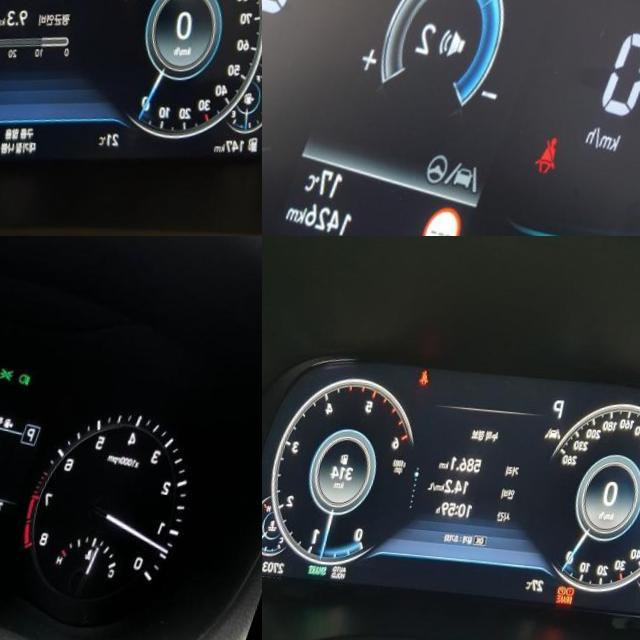LaneCenteringOff: (556, 418, 573, 432)
Low beam: (26, 366, 41, 380)
SideLamp: (7, 360, 25, 375)
